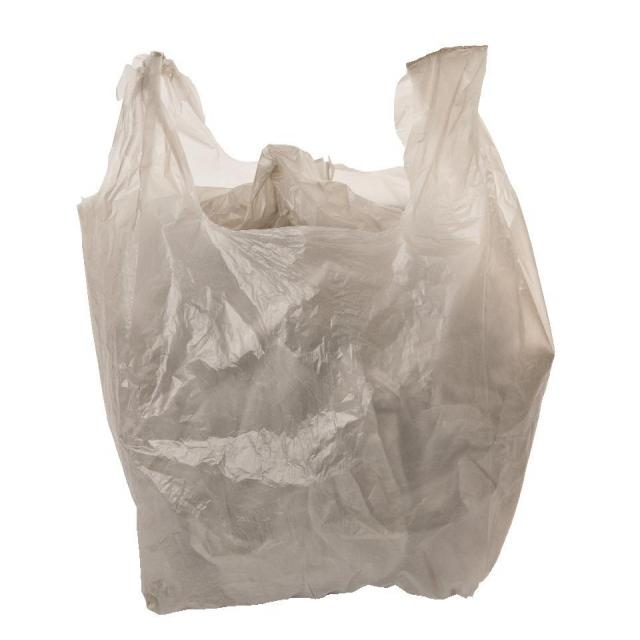plastic_bag: (79, 37, 561, 617)
